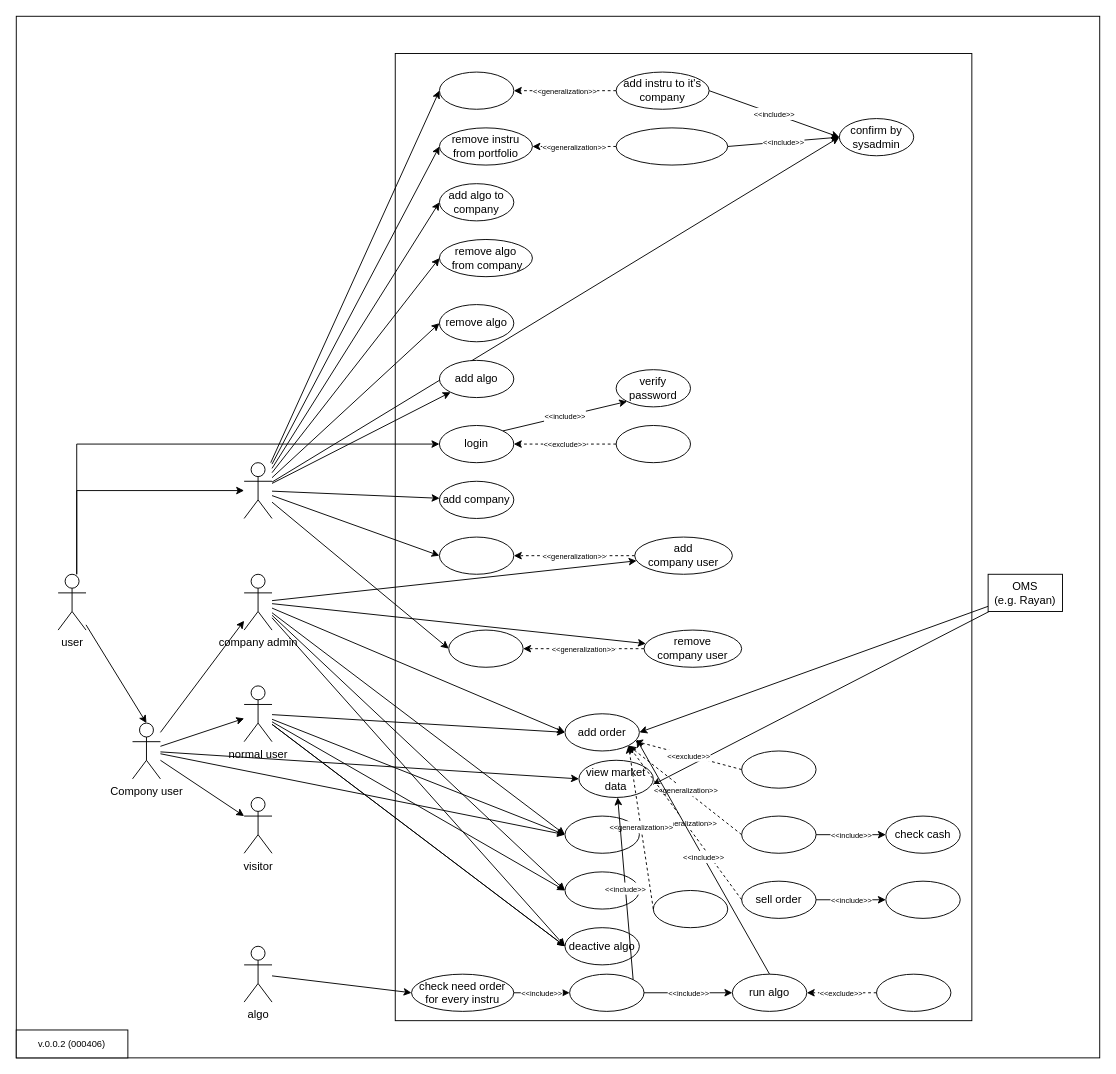
The diagram is 1116 pixels wide and 1074 high, and some of its shapes have lost their labels. The shapes that lost their labels are listed below. From the top down, each one's centre as x and y in pixels, then its label:
At (x=476, y=90): "add instru to portfolio".
At (x=671, y=146): "add instru from it's company".
At (x=653, y=444): "login fail".
At (x=257, y=490): "admin".
At (x=476, y=555): "add user".
At (x=485, y=648): "remove user".
At (x=778, y=769): "order fail".
At (x=601, y=834): "view order".
At (x=778, y=834): "buy order".
At (x=601, y=890): "active algo".
At (x=690, y=909): "cancel order".
At (x=922, y=899): "check assets".
At (x=606, y=992): "check market".
At (x=913, y=992): "do nothing".
